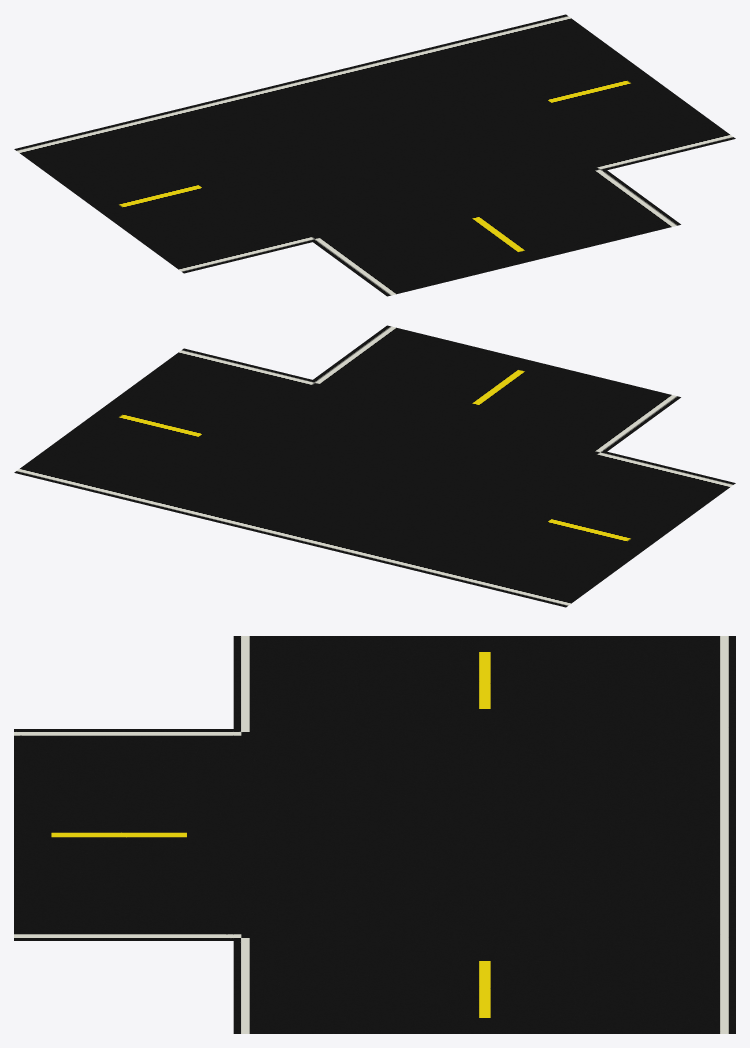
File: mesh_T_Junction.glb
The picture shows the model from 3 angles, top to bottom: view 1: azimuth 30°, elevation 25°; view 2: azimuth 150°, elevation 25°; view 3: azimuth 270°, elevation 25°; orthographic projection. The views are drawn at different scales.
Visible parts, largest first — view 1: T_Junction; view 2: T_Junction; view 3: T_Junction.
Boxes of the visible parts, bbox=[...] form: T_Junction: bbox=[14, 14, 735, 296]; T_Junction: bbox=[14, 325, 735, 607]; T_Junction: bbox=[14, 636, 735, 1033].
Size of the model in its own units: 3.74 by 0 by 2.87.
1 material, 1 textured.
